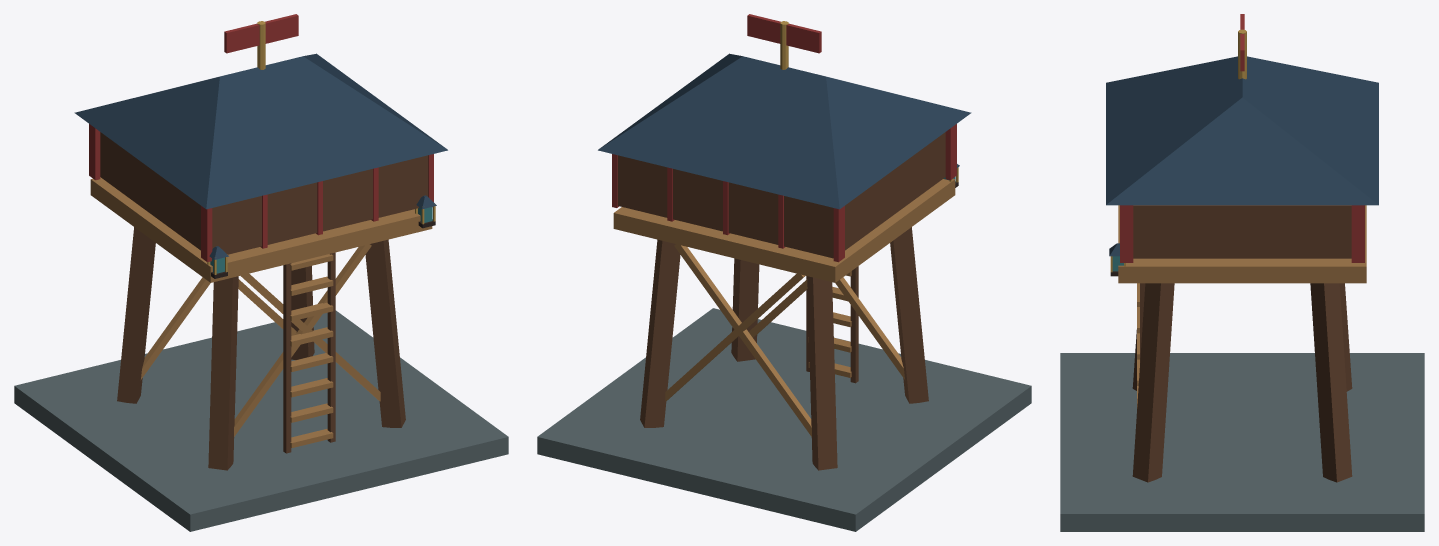
Rendered from PirateCove_Watchtower_Showcase.glb.
The picture shows the model from 3 angles, left to right: view 1: azimuth 30°, elevation 25°; view 2: azimuth 150°, elevation 25°; view 3: azimuth 270°, elevation 25°; orthographic projection. The views are drawn at different scales.
Visible parts, largest first — view 1: PirateCove_Watchtower_Showcase; view 2: PirateCove_Watchtower_Showcase; view 3: PirateCove_Watchtower_Showcase.
Boxes of the visible parts, x1,y1,x2,y2 form: PirateCove_Watchtower_Showcase: (14,14,508,531); PirateCove_Watchtower_Showcase: (537,14,1031,531); PirateCove_Watchtower_Showcase: (1060,14,1424,531).
Size of the model in its own units: 4.6 by 5.6 by 4.4.
